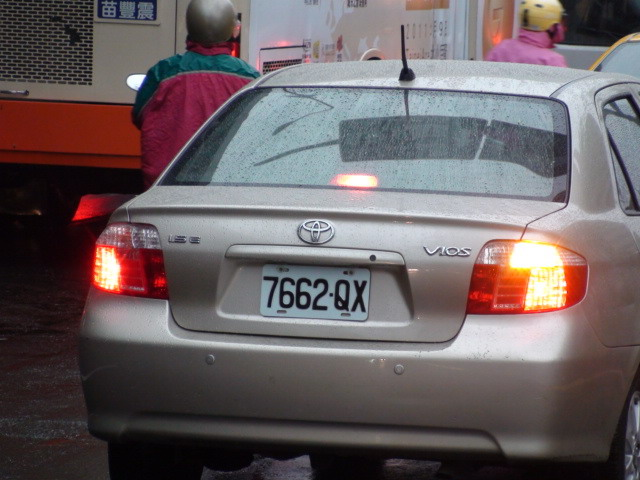plate: (258, 262, 377, 324)
